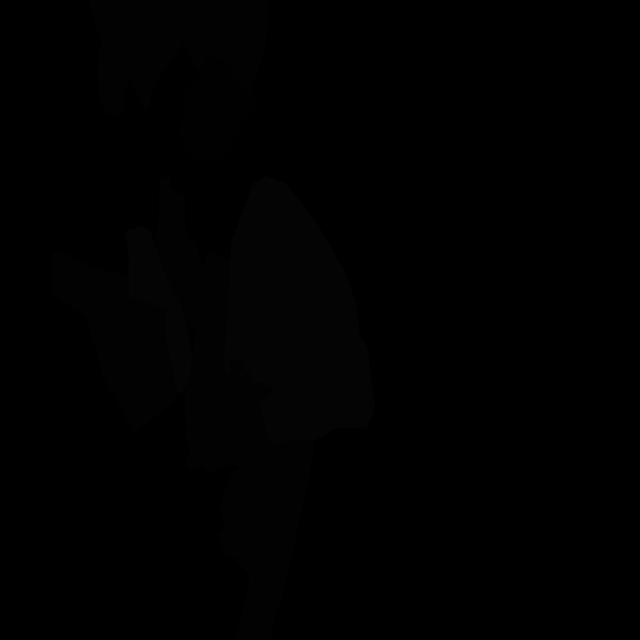cardboard: (51, 252, 178, 435), (88, 0, 268, 116), (199, 358, 286, 561), (230, 440, 314, 640), (184, 252, 232, 471), (155, 175, 202, 329), (253, 383, 275, 403)
rigid_plastic: (178, 55, 258, 162)
soft_plastic: (224, 176, 375, 443), (125, 225, 192, 394)
